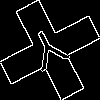Y: (25, 25, 75, 81)
